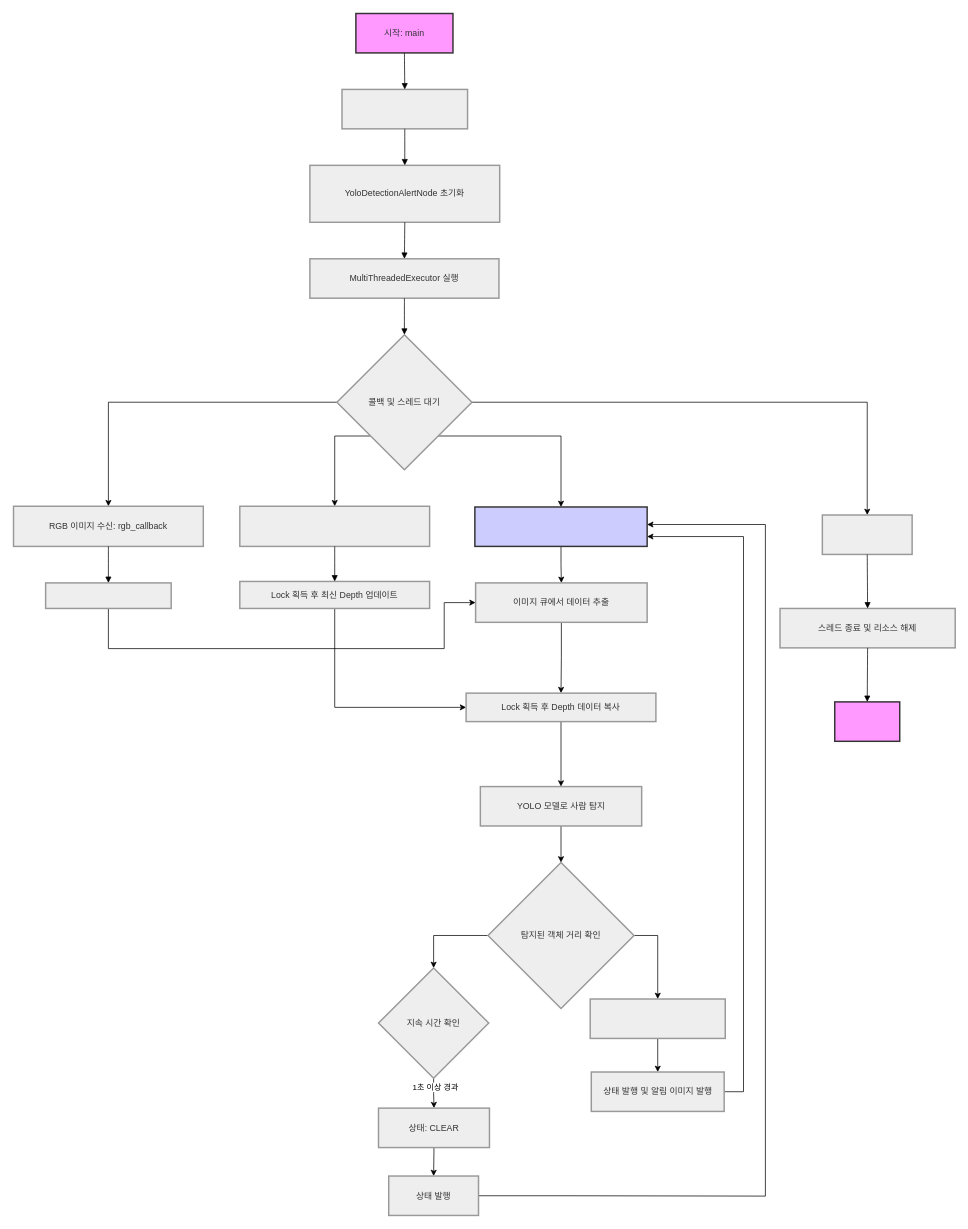
Image size: 968x1229. Some labels were removed from this diagram. The centre of each missing label's shape, as x and y in pixels:
"Depth 이미지 수신: depth_callback" belongs at point (334, 526).
"YOLO 모델 로드" belongs at point (404, 108).
"상태: DETECTED" belongs at point (657, 1018).
"이미지 큐에 저장" belongs at point (108, 595).
"종료" belongs at point (867, 721).
"종료 요청" belongs at point (866, 534).
"탐지 루프: detection_loop" belongs at point (561, 526).
